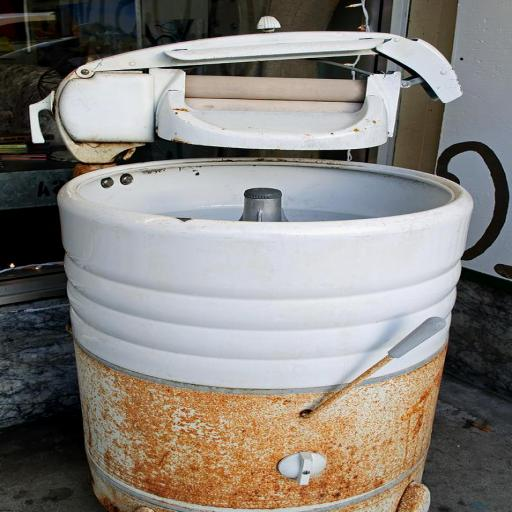corrosion: (79, 355, 442, 512)
